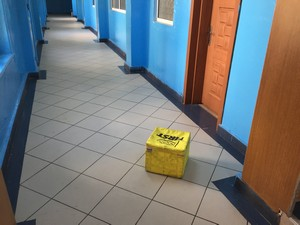cube: (144, 127, 191, 180)
